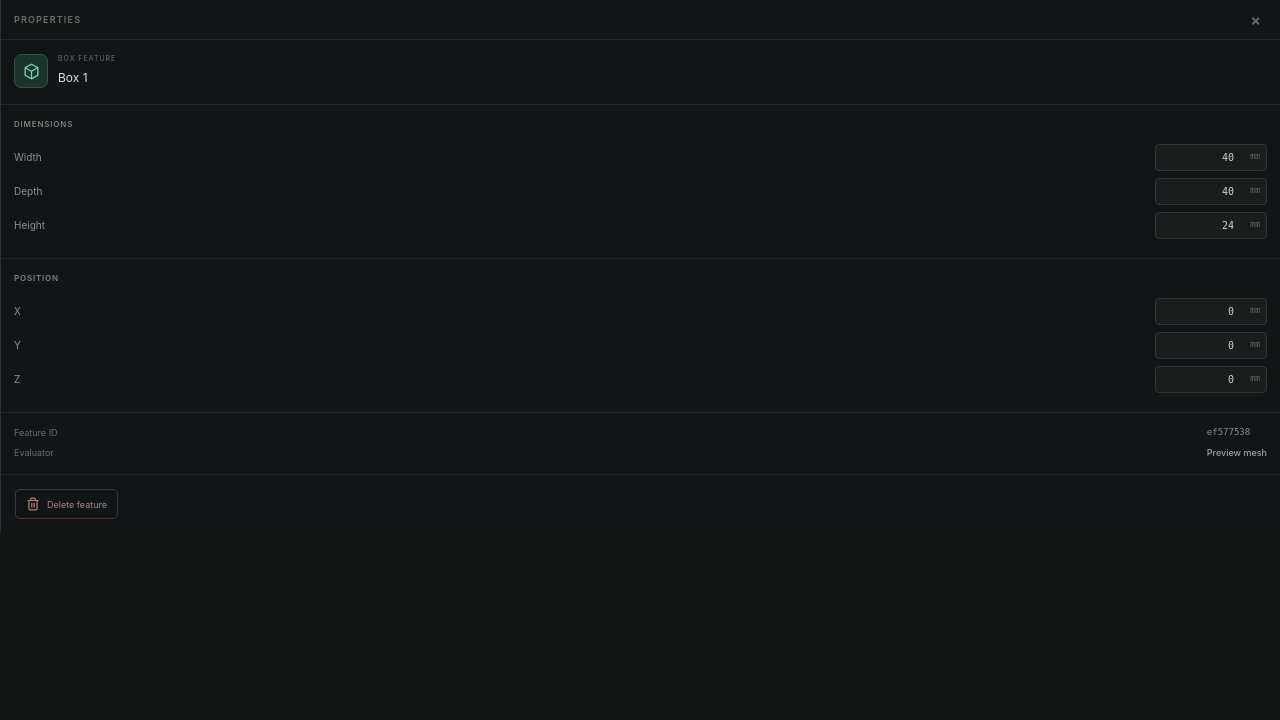
Scenario: driving a dimension from a field › rejects a formula that names nothing, leaving the dimension as it was
The width and height of the screenshot is (1280, 720).
Replace the text in the field labelled "Width" with "=missing / 2" at (1211, 157), box [1155,144,1267,170]
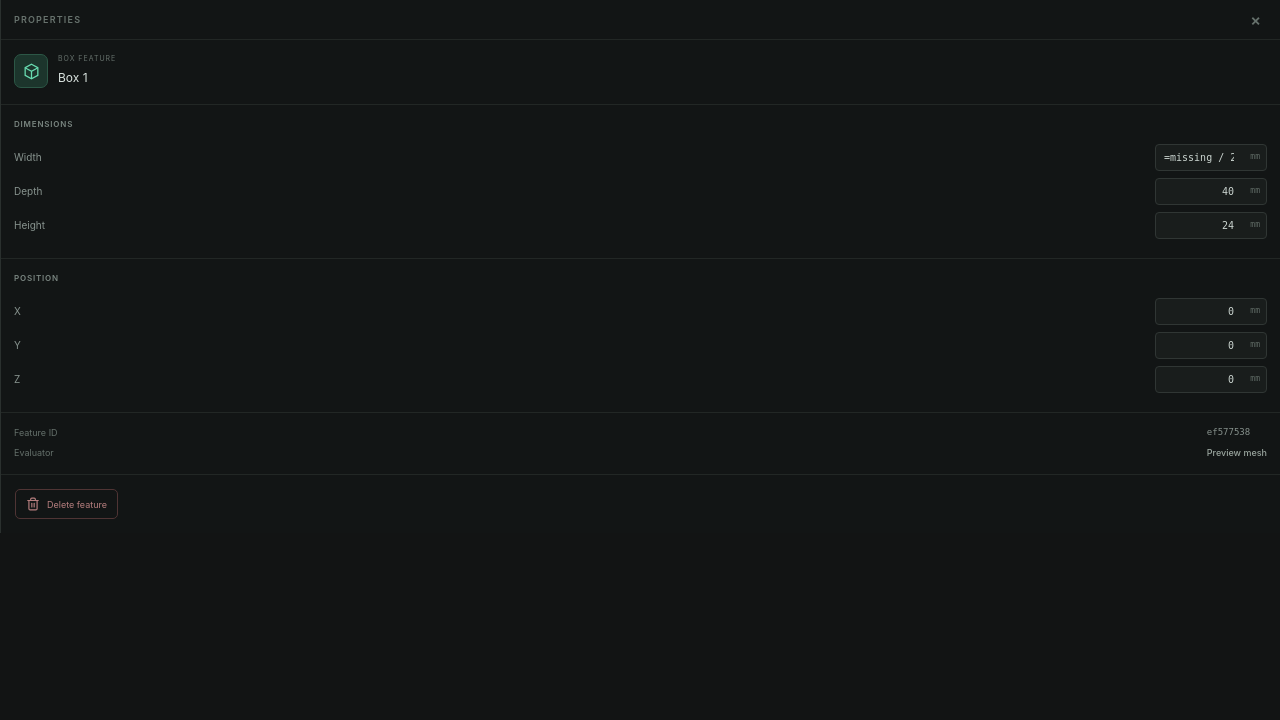
Leave the field labelled "Width", box [1155,144,1267,170]
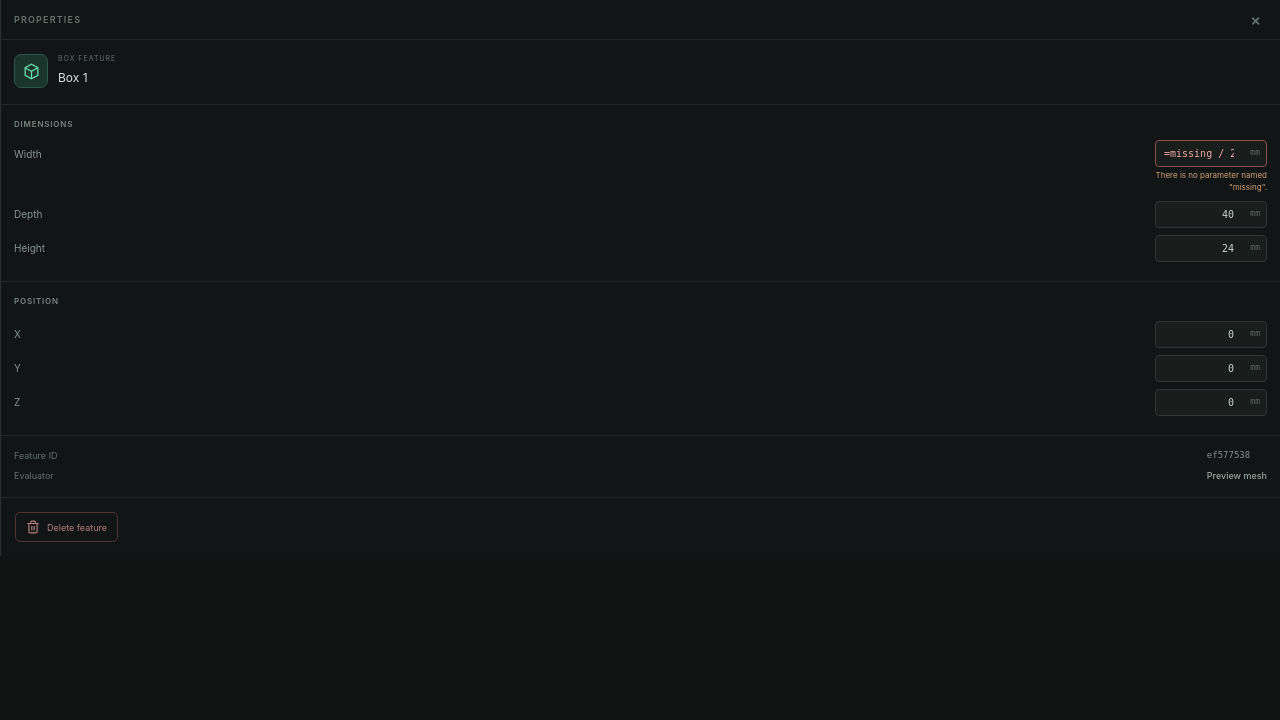
Check: the text "There is no parameter named \"missing\"." is shown, box [1155,170,1267,193]
